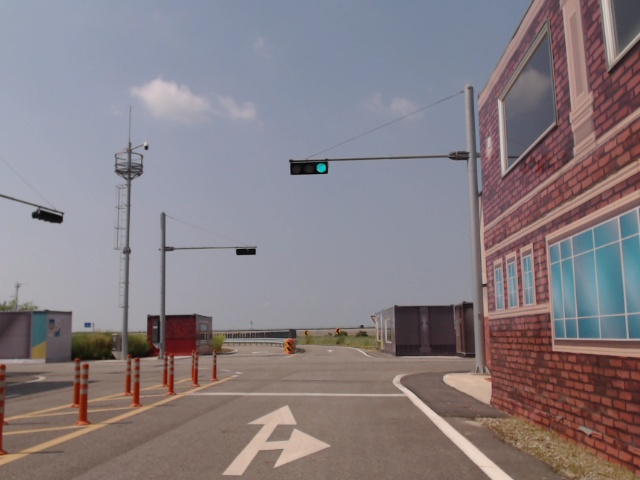green_3: (290, 162, 328, 175)
